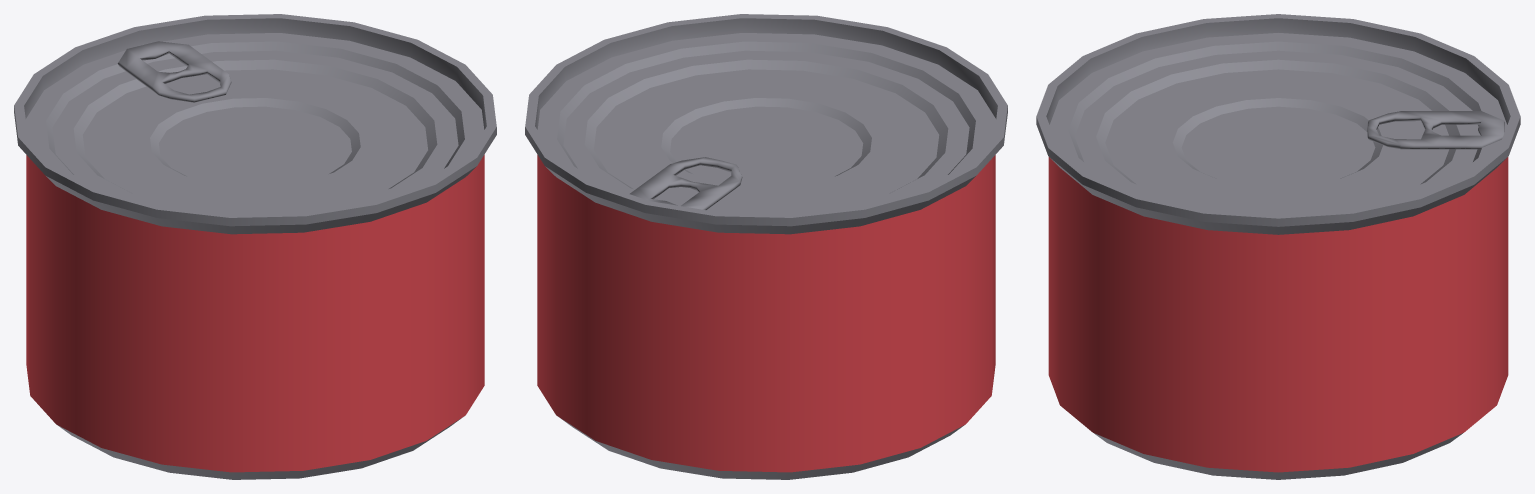
Rendered from puszka.glb.
The picture shows the model from 3 angles, left to right: view 1: azimuth 30°, elevation 25°; view 2: azimuth 150°, elevation 25°; view 3: azimuth 270°, elevation 25°; orthographic projection.
Parts seen in each view (by area): view 1: Cylinder, Cube; view 2: Cylinder, Cube; view 3: Cylinder, Cube.
Part boxes in pixels (<box>): Cylinder: <box>14,14,496,479</box>; Cube: <box>117,41,231,102</box>; Cylinder: <box>525,14,1007,479</box>; Cube: <box>630,157,742,209</box>; Cylinder: <box>1036,14,1520,479</box>; Cube: <box>1367,111,1504,149</box>.
Bounding box in the file's own units: 2.11 × 1.32 × 2.11.
